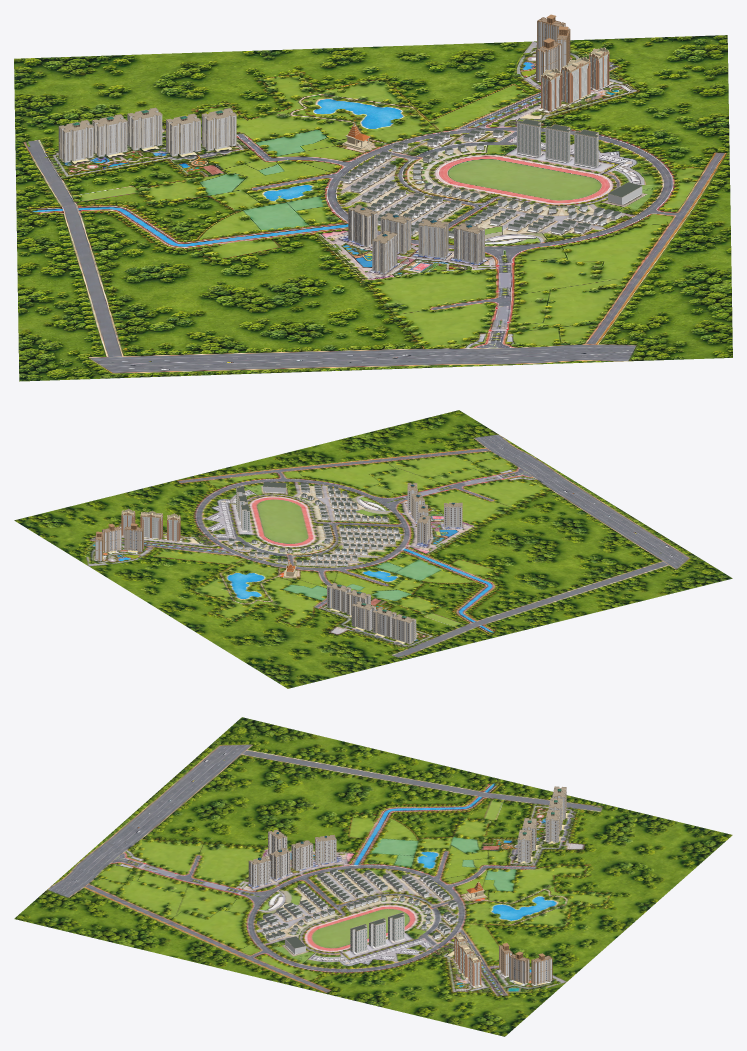
The model's file is township.glb.
3 views of the same model, one above another, from view 1: azimuth 30°, elevation 25°; view 2: azimuth 150°, elevation 25°; view 3: azimuth 270°, elevation 25° (orthographic). The views are drawn at different scales.
Parts seen in each view (by area): view 1: Explorer ground / packed, Building.011 exact, Building.009 exact, Building.012 exact, Building.013 exact, Building.010 exact, Building.029 exact, Building.028 exact, Building.025 exact, Building.030 exact, Building.048 exact, Building.049 exact (+9 smaller); view 2: Explorer ground / packed, Building.012 exact, Building.011 exact, Building.009 exact, Building.013 exact; view 3: Explorer ground / packed, Building.027 exact, Building.029 exact, Building.025 exact, Building.028 exact.
Part boxes in pixels (x1,y1,x2,y2): Explorer ground / packed: [14, 35, 732, 381]; Building.011 exact: [127, 108, 162, 150]; Building.009 exact: [202, 108, 236, 150]; Building.012 exact: [59, 120, 93, 162]; Building.013 exact: [92, 114, 127, 156]; Building.010 exact: [166, 114, 200, 156]; Building.029 exact: [454, 223, 484, 264]; Building.028 exact: [418, 219, 448, 258]; Building.025 exact: [348, 205, 377, 247]; Building.030 exact: [372, 231, 396, 273]; Building.048 exact: [545, 124, 570, 162]; Building.049 exact: [574, 130, 598, 167]; Explorer ground / packed: [14, 410, 732, 688]; Building.012 exact: [392, 614, 416, 643]; Building.011 exact: [351, 601, 375, 630]; Building.009 exact: [327, 583, 350, 612]; Building.013 exact: [373, 608, 396, 637]; Explorer ground / packed: [14, 717, 732, 1036]; Building.027 exact: [291, 840, 313, 870]; Building.029 exact: [249, 856, 270, 886]; Building.025 exact: [315, 835, 336, 863]; Building.028 exact: [270, 848, 290, 879].
Size of what is drawn, in the model's own units: 3056 by 124 by 2904.
Materials: 34 (2 with a texture image).
